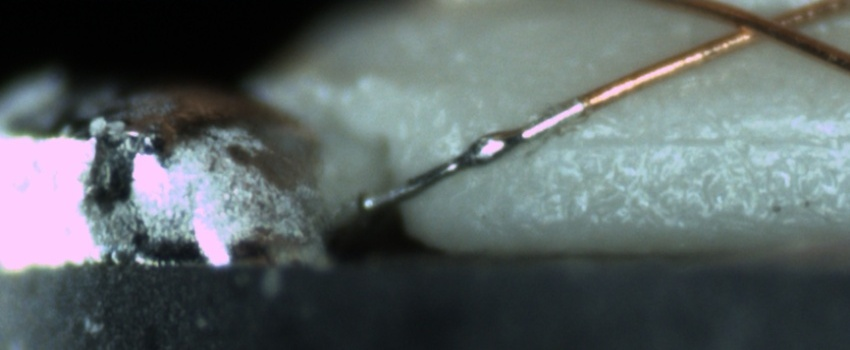CL: (705, 2, 819, 48)
DL: (516, 109, 850, 173)
TB: (467, 125, 518, 167)
TS: (356, 94, 586, 218)
TTCW: (360, 72, 632, 209)
